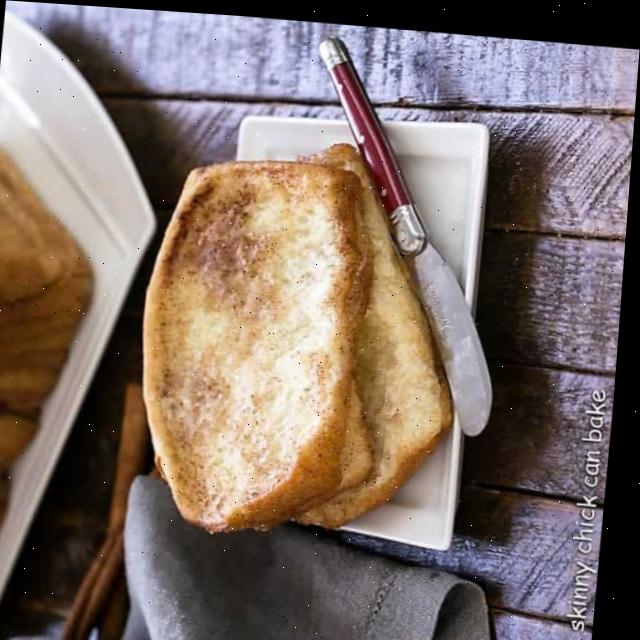Bread: (148, 156, 374, 527)
